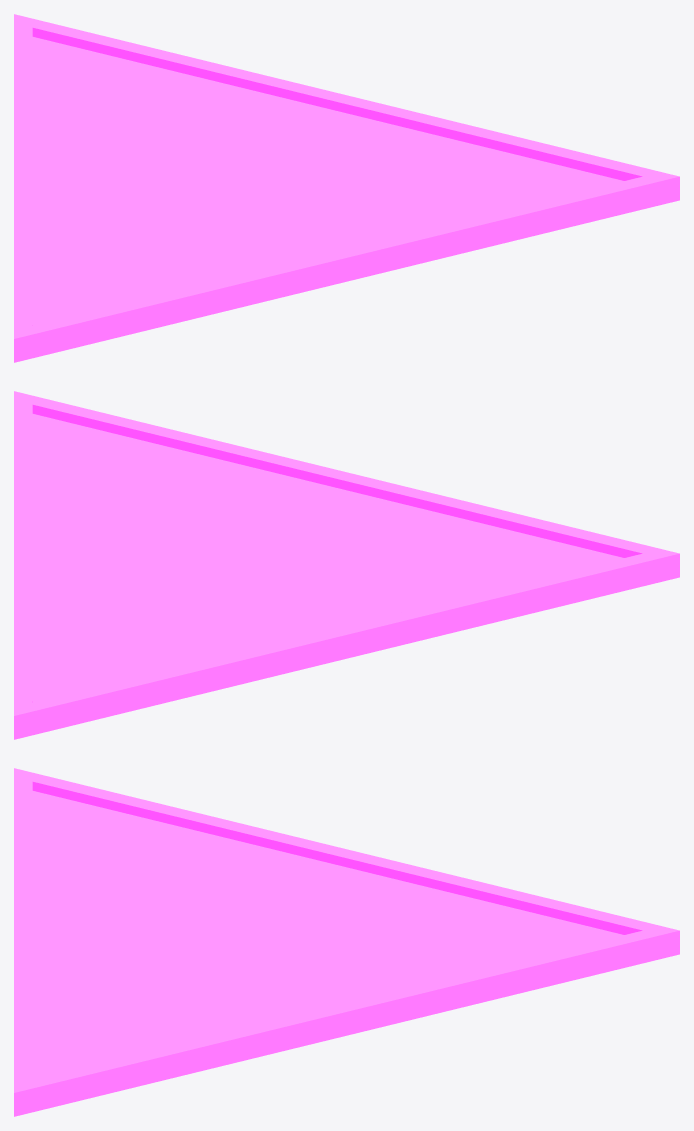
The model's file is SFI0310026.fbx.
3 renders of one model, top to bottom at view 1: azimuth 30°, elevation 25°; view 2: azimuth 150°, elevation 25°; view 3: azimuth 270°, elevation 25°, orthographic.
Visible parts, largest first — view 1: smSFI0310026; view 2: smSFI0310026; view 3: smSFI0310026.
Part boxes in pixels (x1,y1,x2,y2): smSFI0310026: (14,14,679,362); smSFI0310026: (14,391,679,739); smSFI0310026: (14,768,679,1116).
Size of the model in its own units: 173 by 5.93 by 150.
